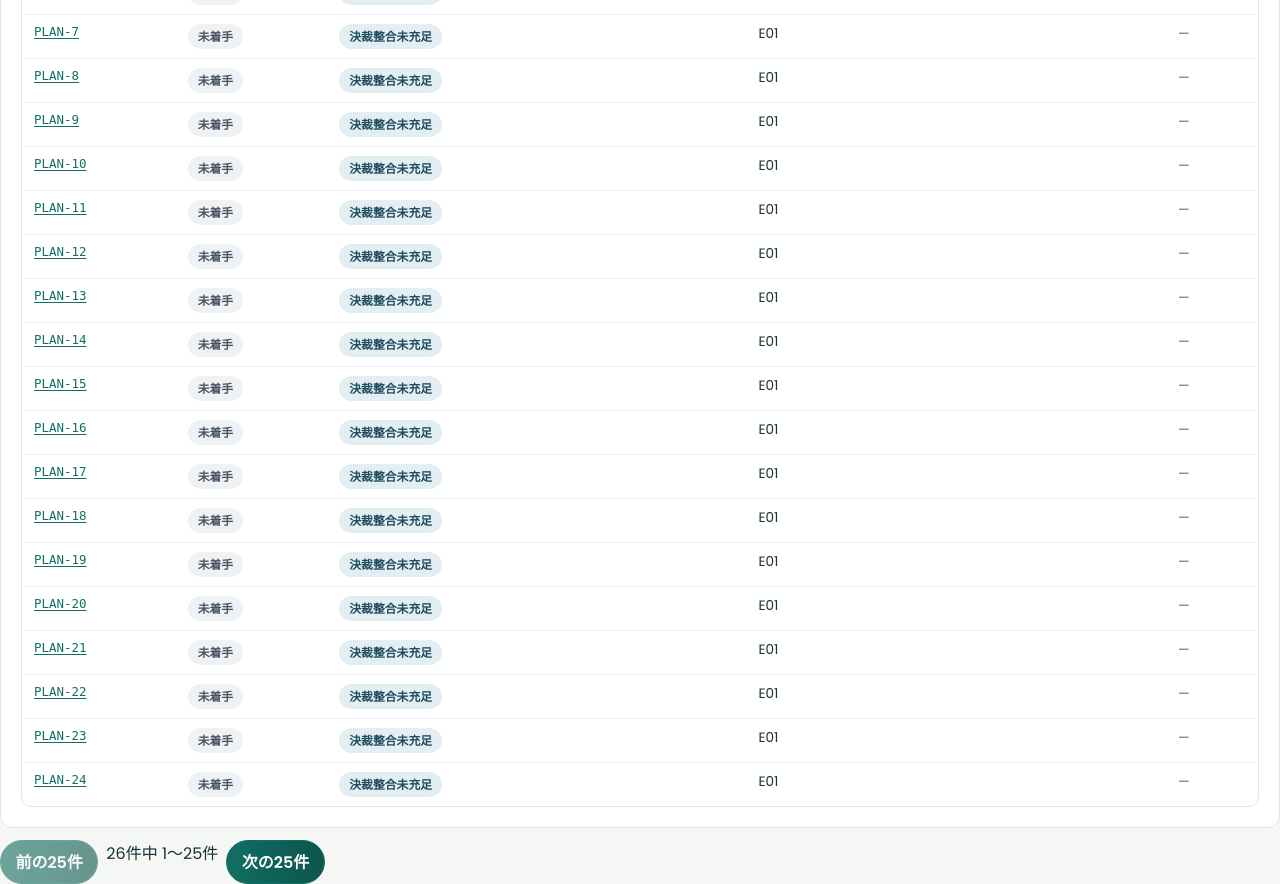
Scenario: venture governance UI › allows adding to seeded ledgers and pages beyond 25 rows
(page scrolled)
Expected: the button "PLAN-25" is not shown
Click the button "次の25件".
click(275, 862)  # box [226,840,325,883]
(page scrolled)
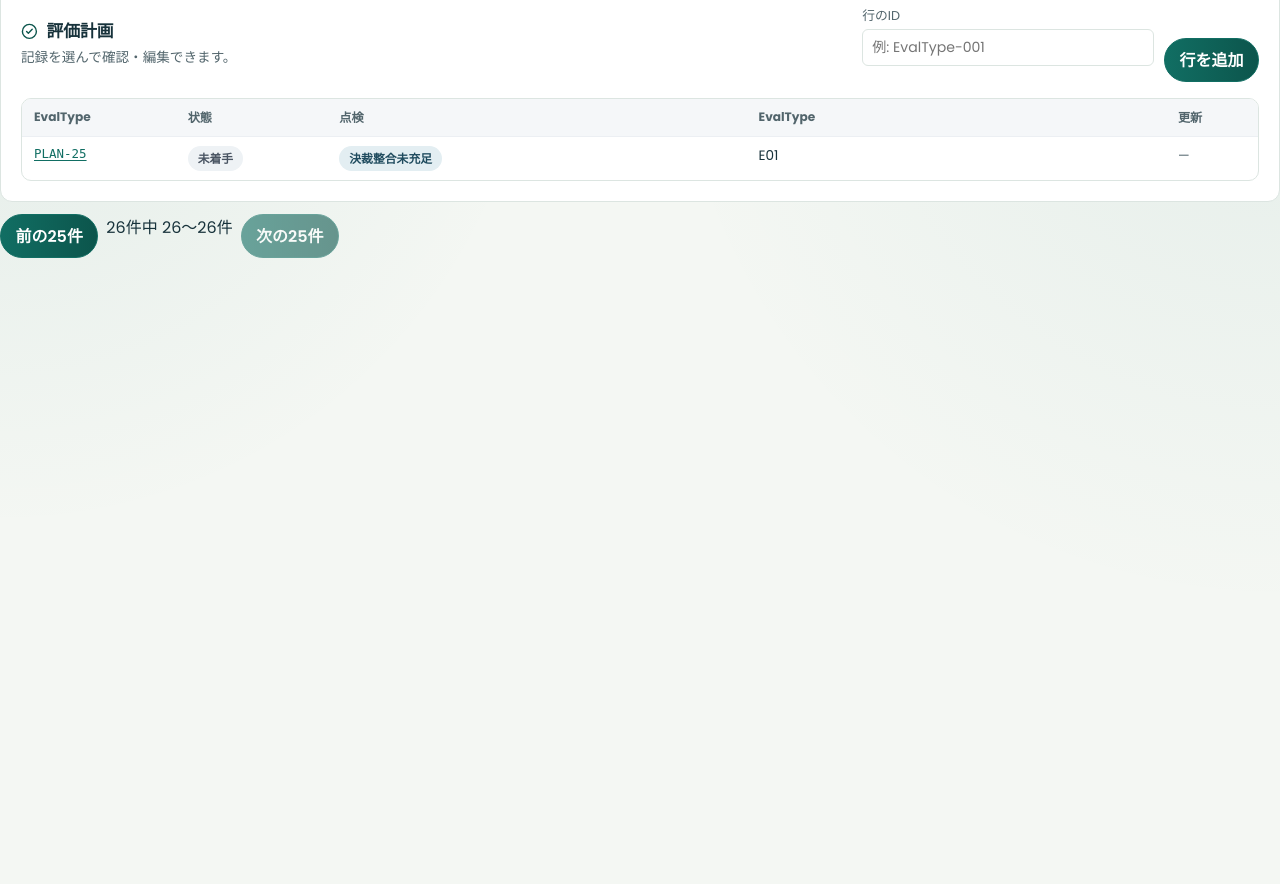
Now the button "PLAN-25" is shown, box [34,146,87,161]
